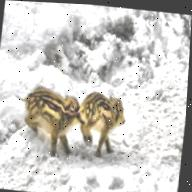boar: (8, 67, 82, 148), (70, 82, 133, 151)
